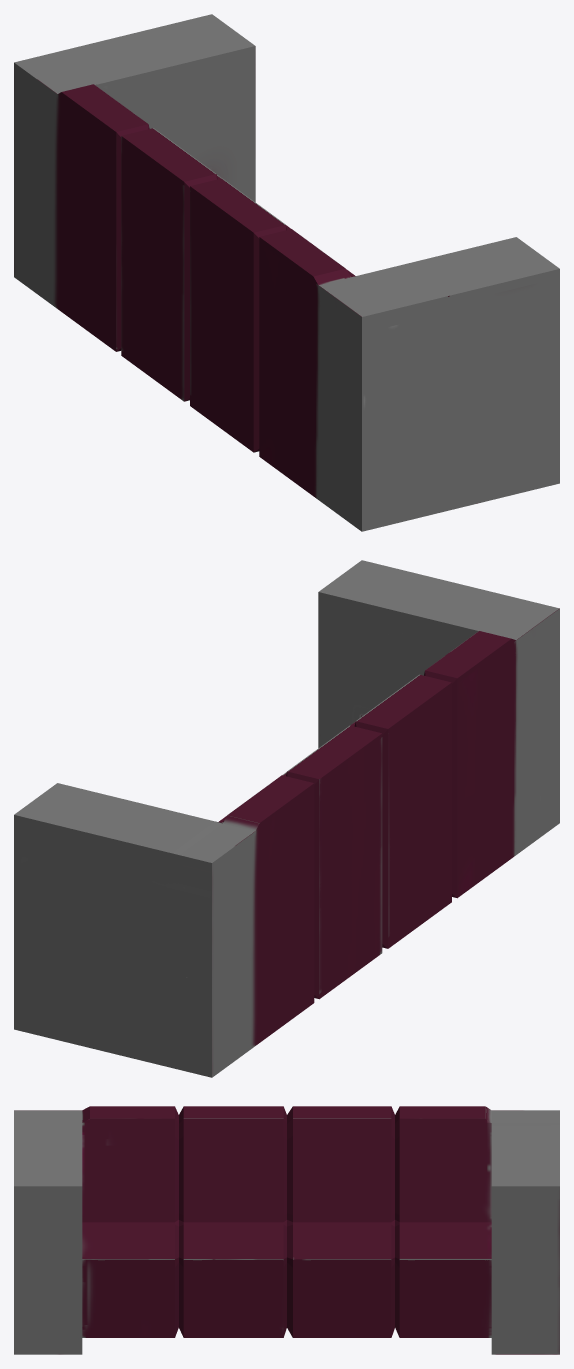
Rendered from delosReyes_couch.glb.
3 renders of one model, top to bottom at view 1: azimuth 30°, elevation 25°; view 2: azimuth 150°, elevation 25°; view 3: azimuth 270°, elevation 25°, orthographic. The views are drawn at different scales.
Parts seen in each view (by area): view 1: couch; view 2: couch; view 3: couch.
Part boxes in pixels (x1,y1,x2,y2): couch: (14, 14, 559, 531); couch: (14, 560, 559, 1077); couch: (14, 1106, 559, 1354).
Bounding box in the file's own units: 11.78 × 12.49 × 35.82.
Materials: 1 (1 with a texture image).
